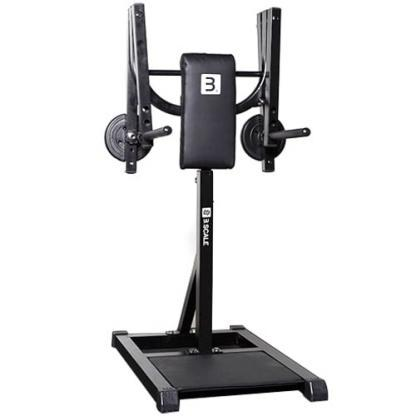lateral raises machine: (104, 4, 330, 413)
